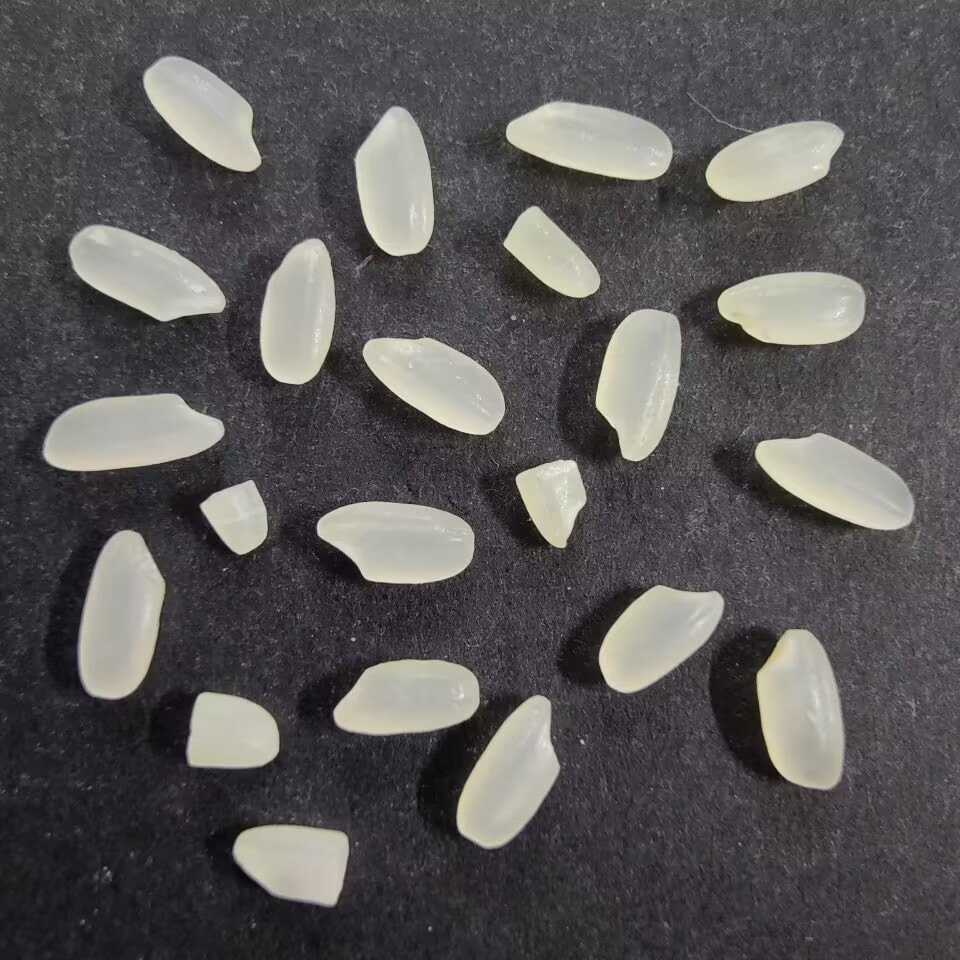broken: (231, 820, 353, 912), (504, 201, 605, 300), (181, 690, 282, 775), (511, 455, 593, 554), (197, 476, 272, 557)
rice: (747, 430, 918, 534), (66, 220, 231, 327), (454, 692, 563, 851), (76, 523, 169, 702), (37, 390, 228, 477), (752, 623, 846, 793), (358, 334, 511, 436), (597, 579, 726, 697), (308, 498, 478, 587), (140, 55, 264, 173), (592, 308, 685, 461), (500, 98, 671, 180), (327, 656, 485, 740), (350, 104, 434, 259), (259, 234, 338, 390), (703, 118, 846, 204), (714, 272, 869, 349)
